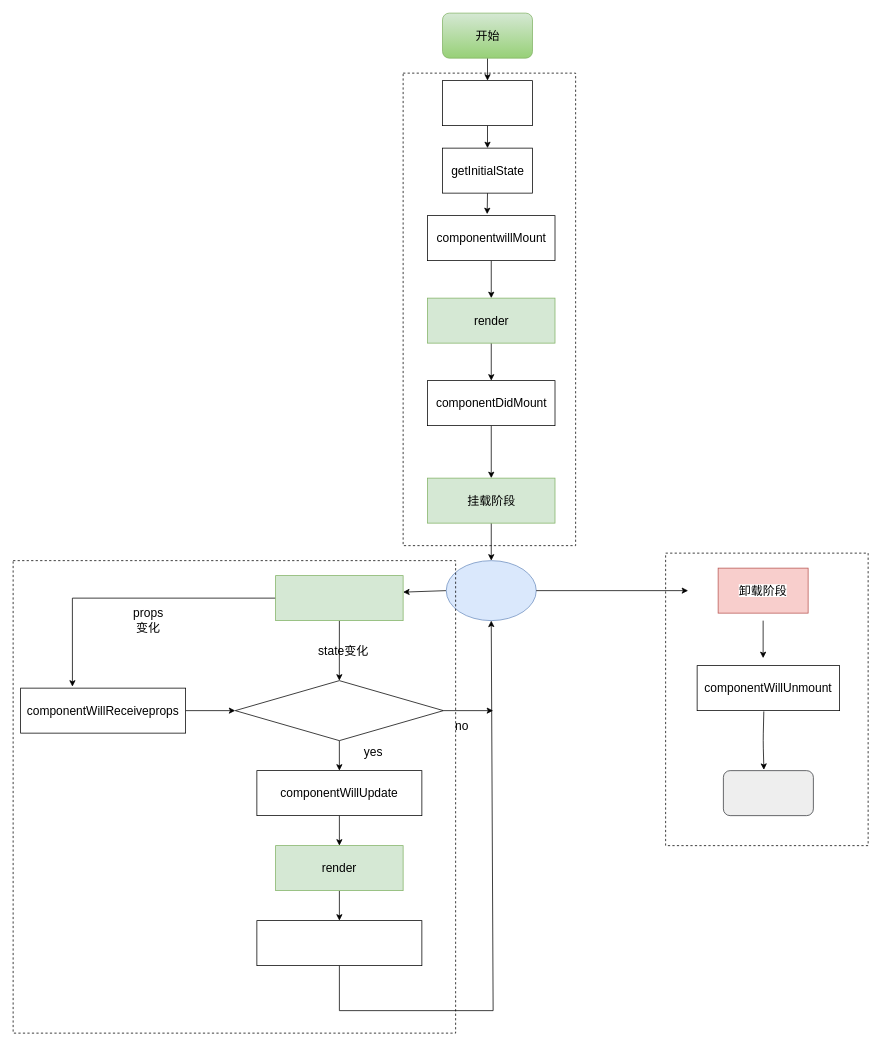
This 881x1046 diagram has some shape labels left out. The shapes that lost their labels are listed below. From the top down, each one's centre as x and y in pixels, then its label:
(487,103): getDefaultProps
(339,598): 更新阶段
(491,590): 运行中
(339,710): shouldComponentUpdate
(768,793): 结束
(339,943): componentDidUpdate
